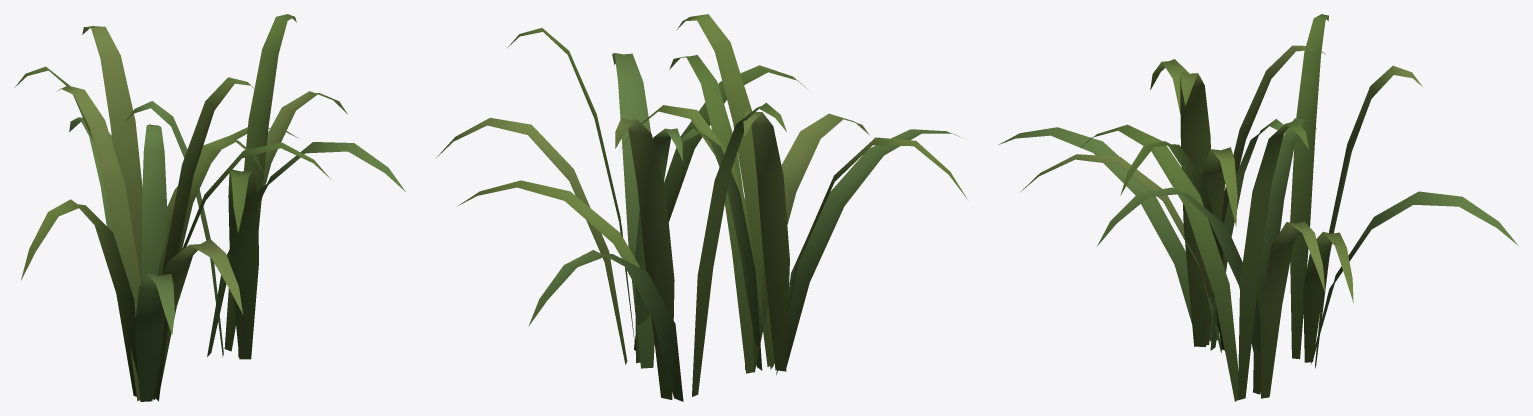
The model's file is SM_GrassLongCurved_LOD1.fbx.
The picture shows the model from 3 angles, left to right: view 1: azimuth 30°, elevation 25°; view 2: azimuth 150°, elevation 25°; view 3: azimuth 270°, elevation 25°; orthographic projection. The views are drawn at different scales.
Parts seen in each view (by area): view 1: SM_GrassLongCurved_LOD1; view 2: SM_GrassLongCurved_LOD1; view 3: SM_GrassLongCurved_LOD1.
Boxes of the visible parts, <box> form: SM_GrassLongCurved_LOD1: <box>14,14,405,401</box>; SM_GrassLongCurved_LOD1: <box>436,14,967,401</box>; SM_GrassLongCurved_LOD1: <box>998,14,1518,401</box>.
Bounding box in the file's own units: 1.18 × 1.27 × 0.8324.
1 material, 1 textured.
